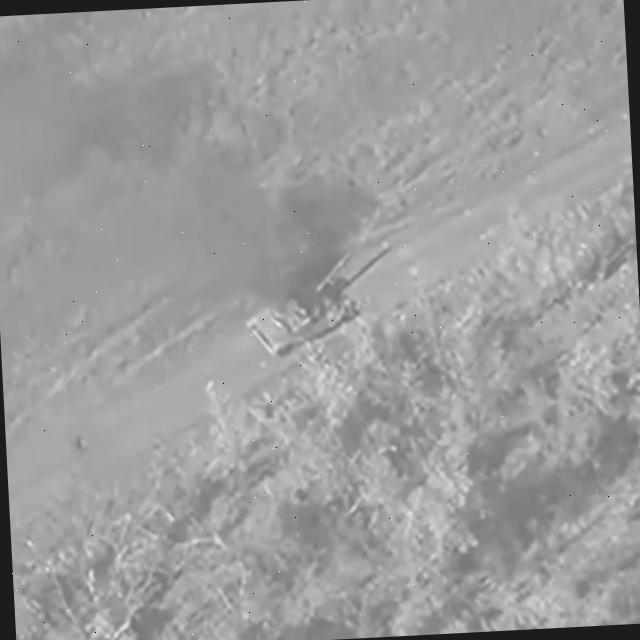MBT: (240, 251, 359, 362)
